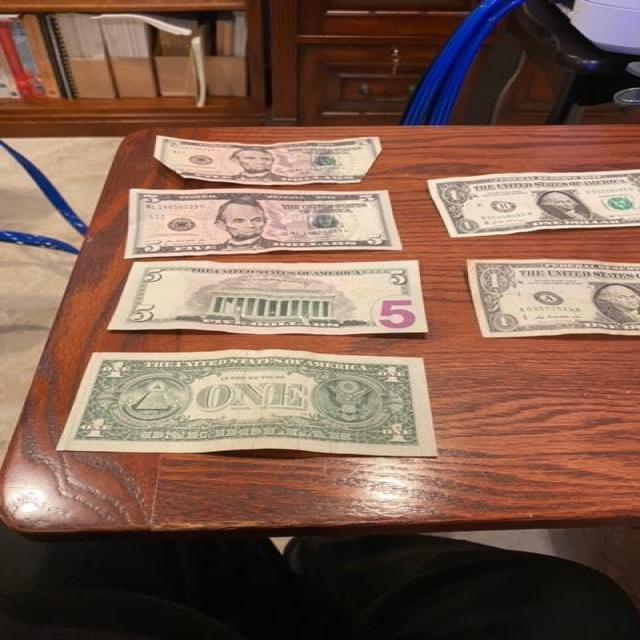1-Back: (55, 348, 449, 465)
1-Front: (458, 250, 640, 342), (426, 162, 640, 235)
5-Back: (107, 251, 437, 341)
5-Front: (120, 185, 411, 259), (150, 130, 387, 182)
